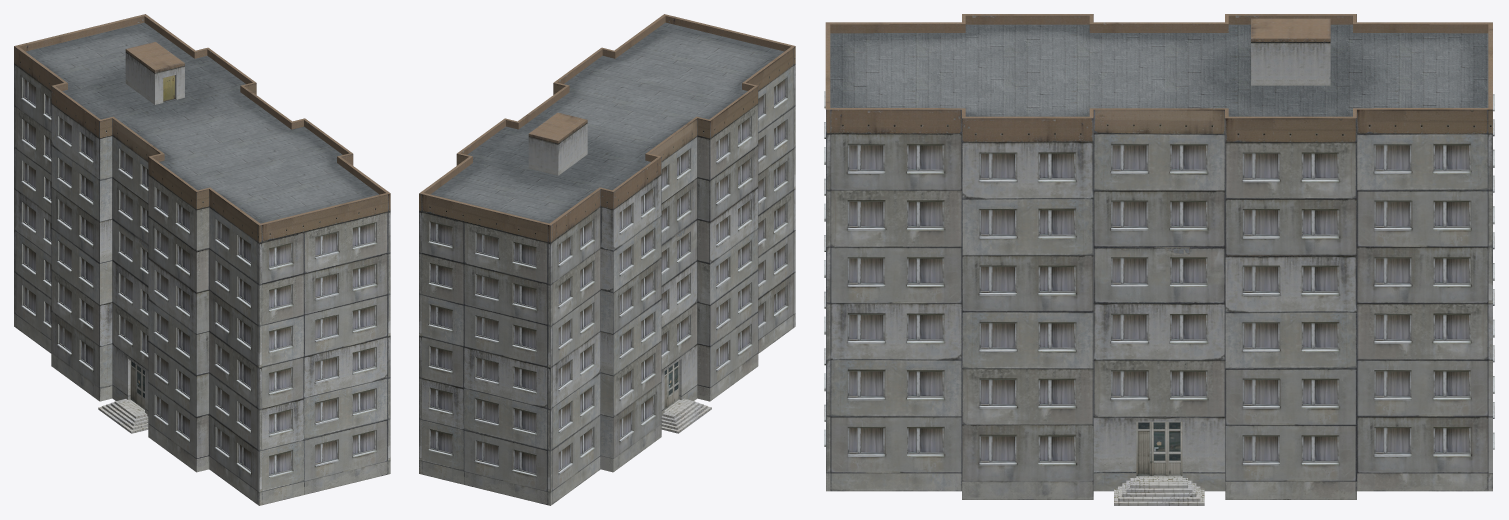
The model's file is low_poly_-_soviet__apartment_building_8k.glb.
The picture shows the model from 3 angles, left to right: view 1: azimuth 30°, elevation 25°; view 2: azimuth 150°, elevation 25°; view 3: azimuth 270°, elevation 25°; orthographic projection. The views are drawn at different scales.
Visible parts, largest first — view 1: BUILDING; view 2: BUILDING; view 3: BUILDING.
Boxes of the visible parts, x1,y1,x2,y2 form: BUILDING: (14,14,390,505); BUILDING: (419,14,795,505); BUILDING: (824,14,1494,505).
Bounding box in the file's own units: 0.6832 × 1.15 × 1.66.
1 material, 1 textured.
